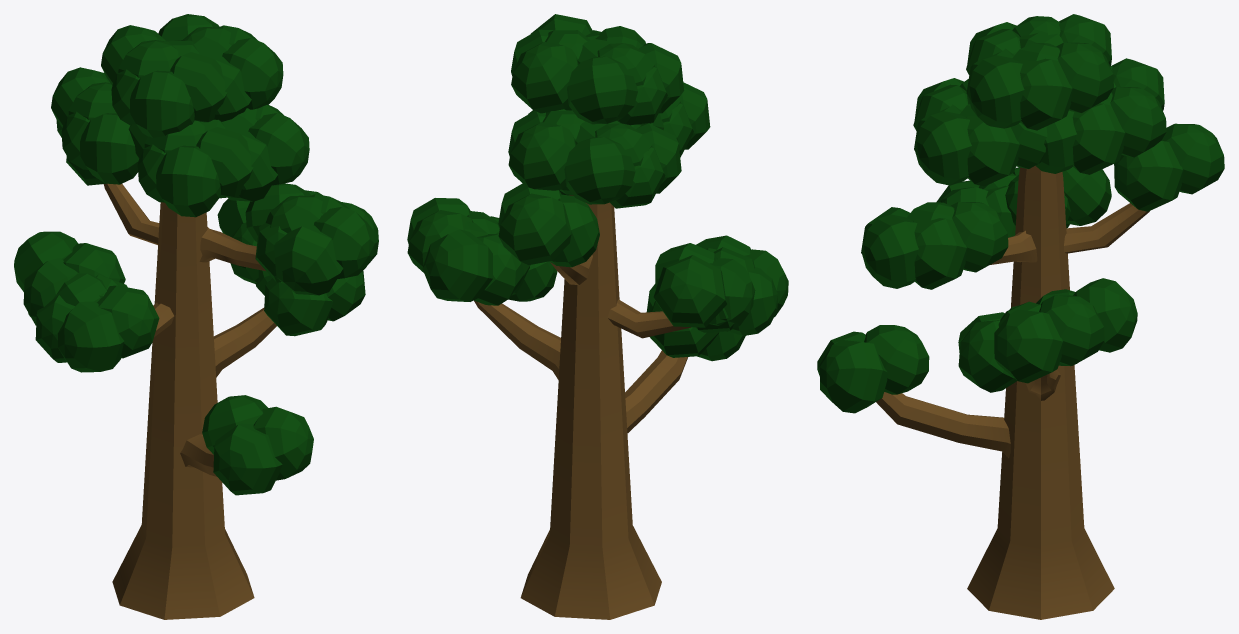
Rendered from asset_BigTree_05.fbx.
3 renders of one model, left to right at view 1: azimuth 30°, elevation 25°; view 2: azimuth 150°, elevation 25°; view 3: azimuth 270°, elevation 25°, orthographic.
Visible parts, largest first — view 1: Big_Tree_05; view 2: Big_Tree_05; view 3: Big_Tree_05.
Part boxes in pixels (left/top/right/bottom): Big_Tree_05: left=14, top=14, right=378, bottom=619; Big_Tree_05: left=407, top=14, right=788, bottom=619; Big_Tree_05: left=817, top=14, right=1224, bottom=619.
Size of the model in its own units: 344 by 520 by 345.
